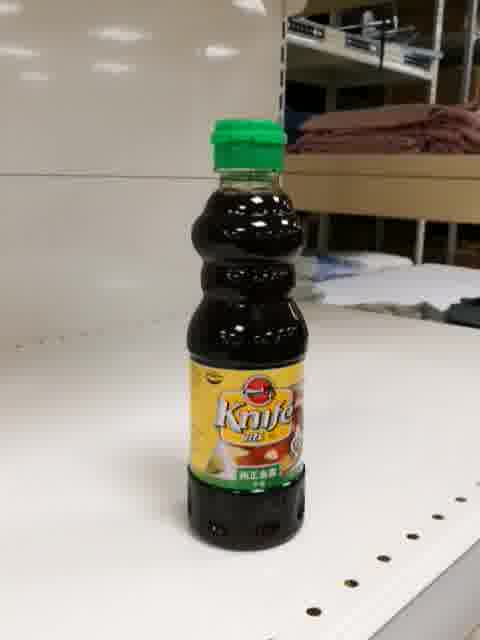cookingoil: (184, 116, 309, 554)
